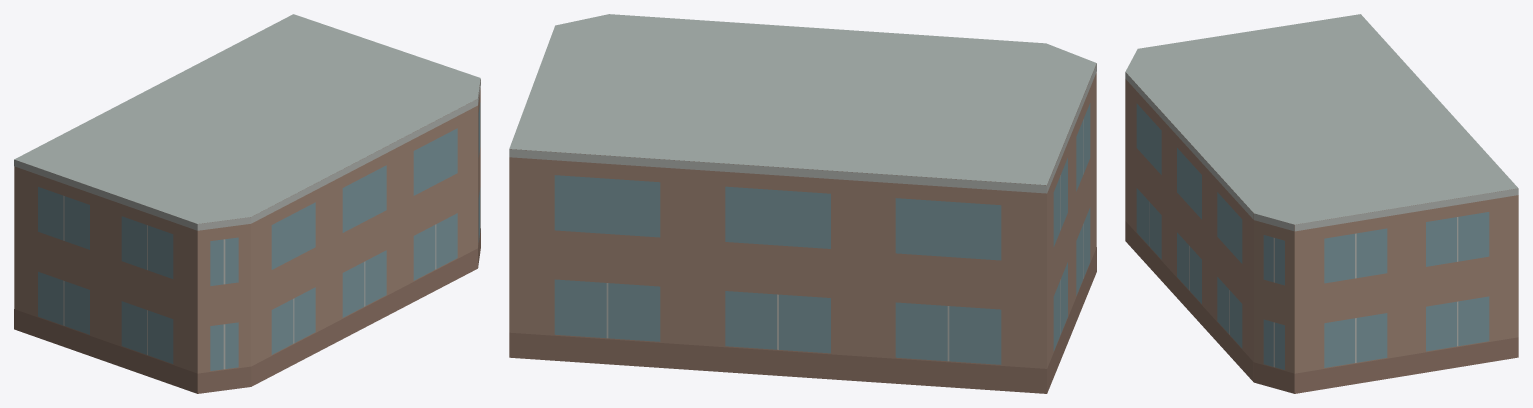
File: survey-upis-32840378.glb
3 views of the same model, side by side, from view 1: azimuth 30°, elevation 25°; view 2: azimuth 150°, elevation 25°; view 3: azimuth 270°, elevation 25° (orthographic). The views are drawn at different scales.
Parts seen in each view (by area): view 1: survey-upis-32840378.tmp; view 2: survey-upis-32840378.tmp; view 3: survey-upis-32840378.tmp.
Boxes of the visible parts, x1,y1,x2,y2 form: survey-upis-32840378.tmp: (14, 14, 480, 393); survey-upis-32840378.tmp: (509, 14, 1096, 393); survey-upis-32840378.tmp: (1125, 14, 1518, 393).
Bounding box in the file's own units: 16.3 × 6.1 × 12.86.
